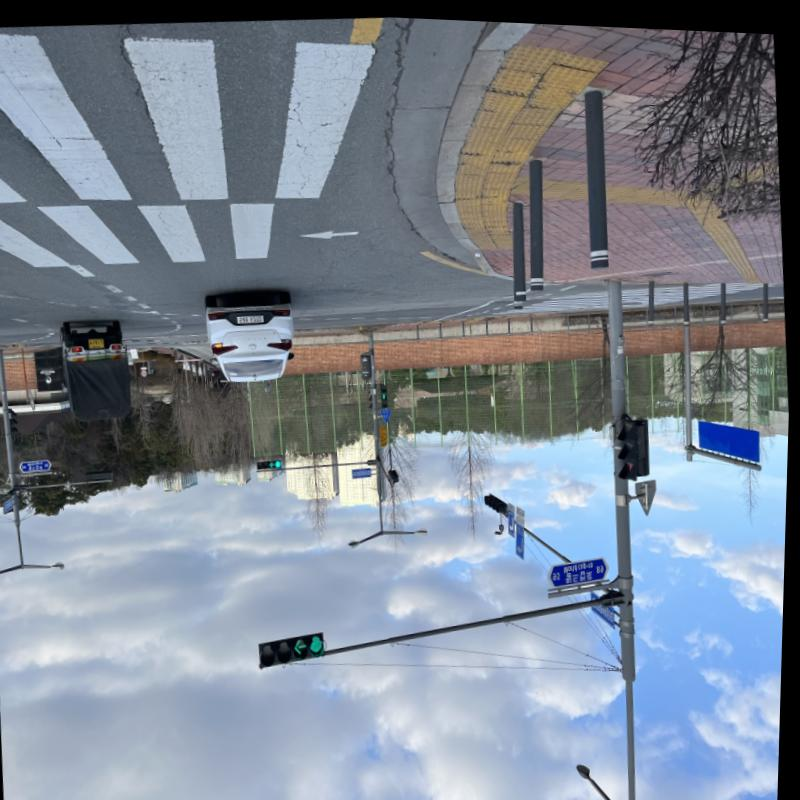green: (312, 630, 327, 654)
left: (296, 632, 312, 657)
